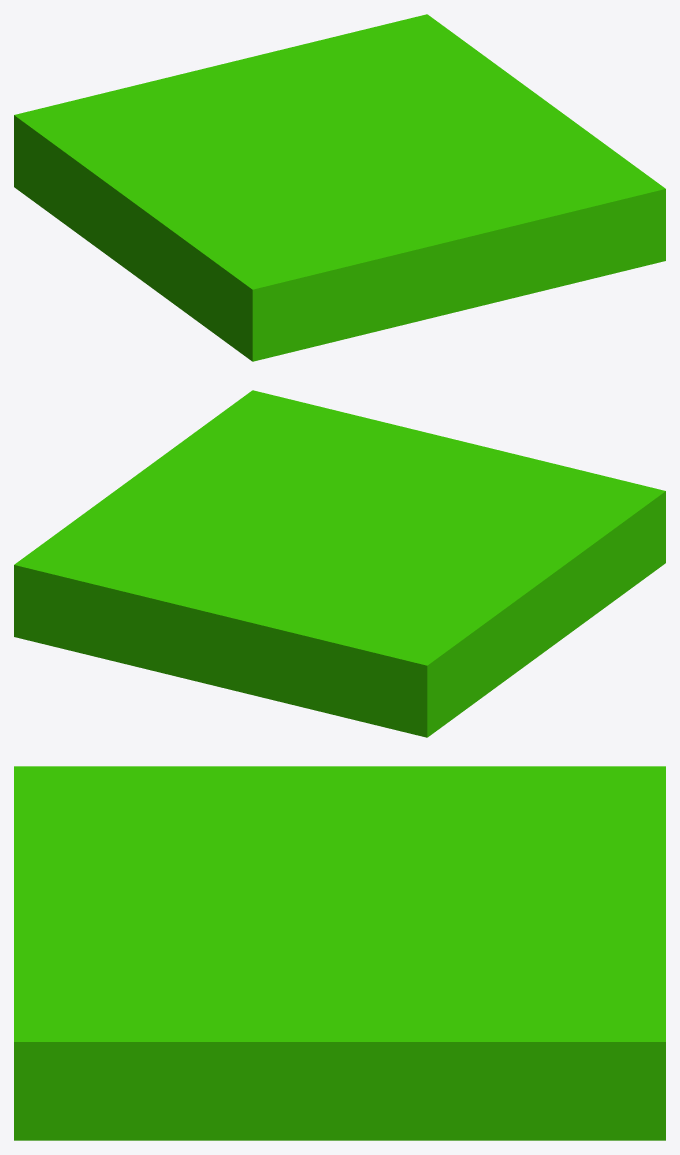
The model's file is corner_terrain.fbx.
3 views of the same model, one above another, from view 1: azimuth 30°, elevation 25°; view 2: azimuth 150°, elevation 25°; view 3: azimuth 270°, elevation 25° (orthographic). The views are drawn at different scales.
Parts seen in each view (by area): view 1: Box001; view 2: Box001; view 3: Box001.
Part boxes in pixels (x1=…): Box001: x1=14, y1=14, x2=665, y2=361; Box001: x1=14, y1=390, x2=665, y2=737; Box001: x1=14, y1=766, x2=665, y2=1140.
Size of the model in its own units: 240 by 40 by 240.
